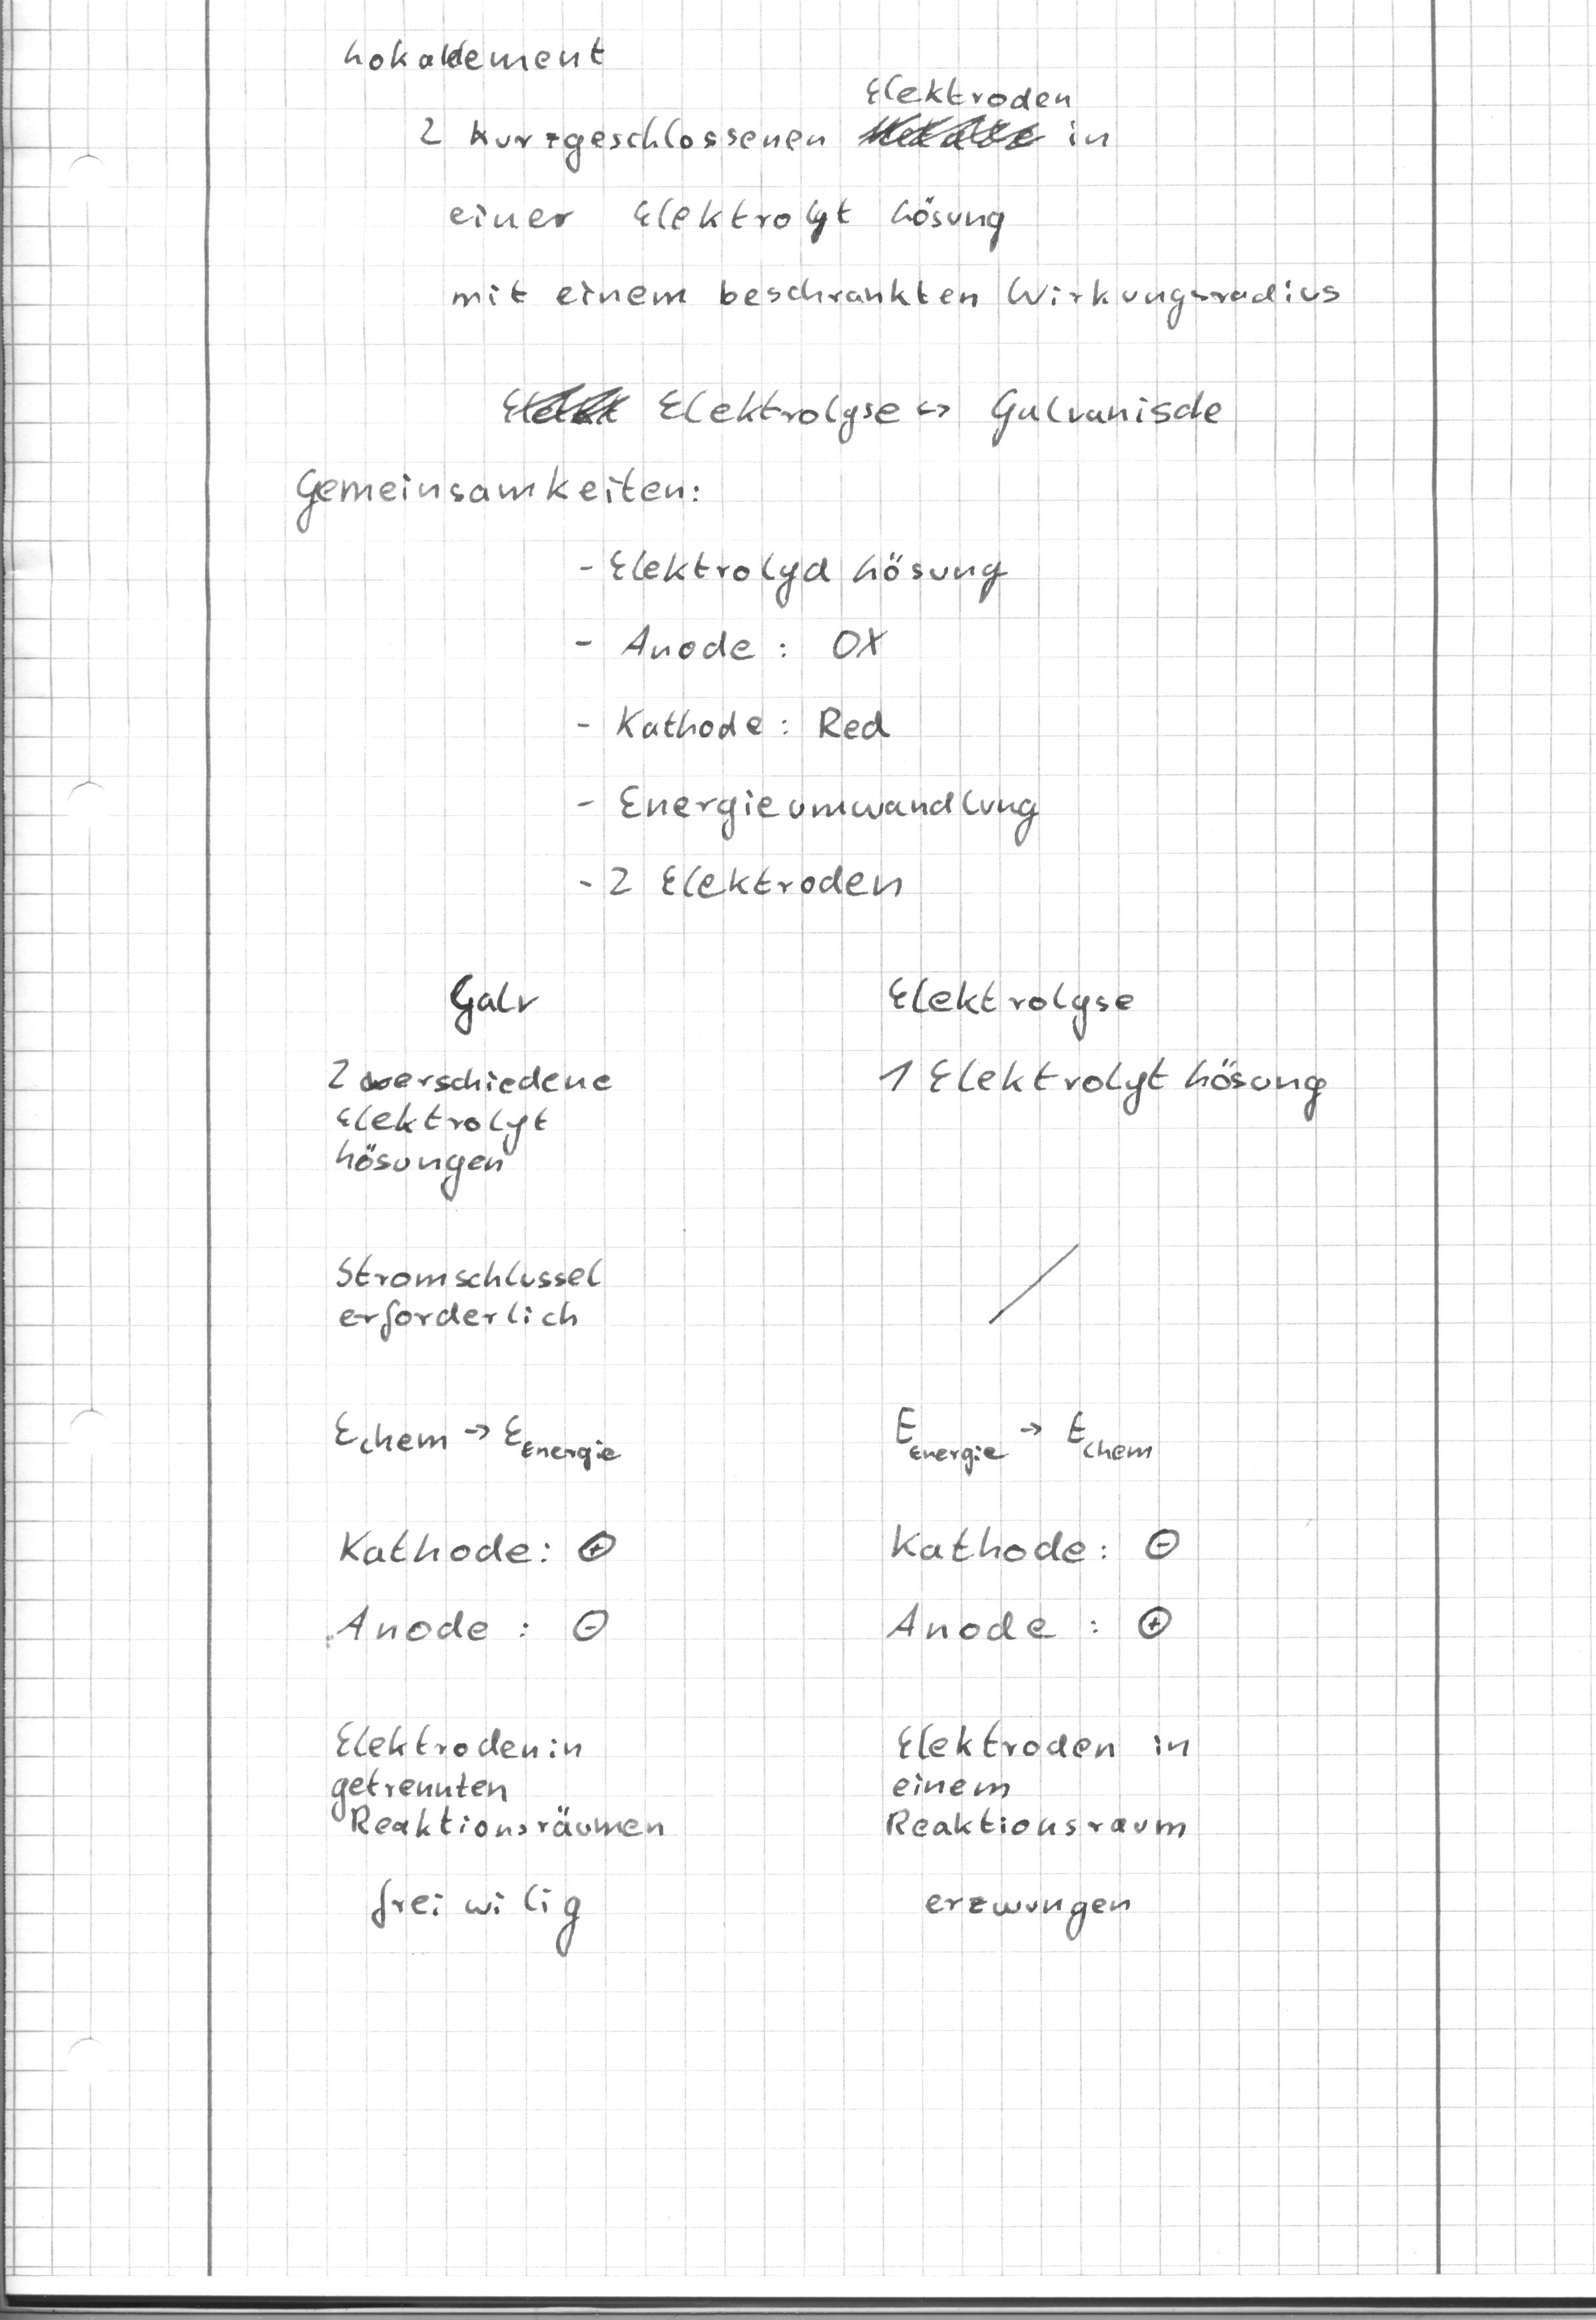word: (411, 67, 1348, 336), (569, 542, 1061, 916), (314, 1705, 673, 1960), (879, 1393, 1192, 1665), (319, 1393, 632, 1655), (873, 1716, 1198, 1962), (873, 966, 1345, 1132), (320, 967, 632, 1209), (491, 372, 1246, 461), (282, 455, 716, 539), (320, 1236, 625, 1356), (336, 27, 607, 77)
